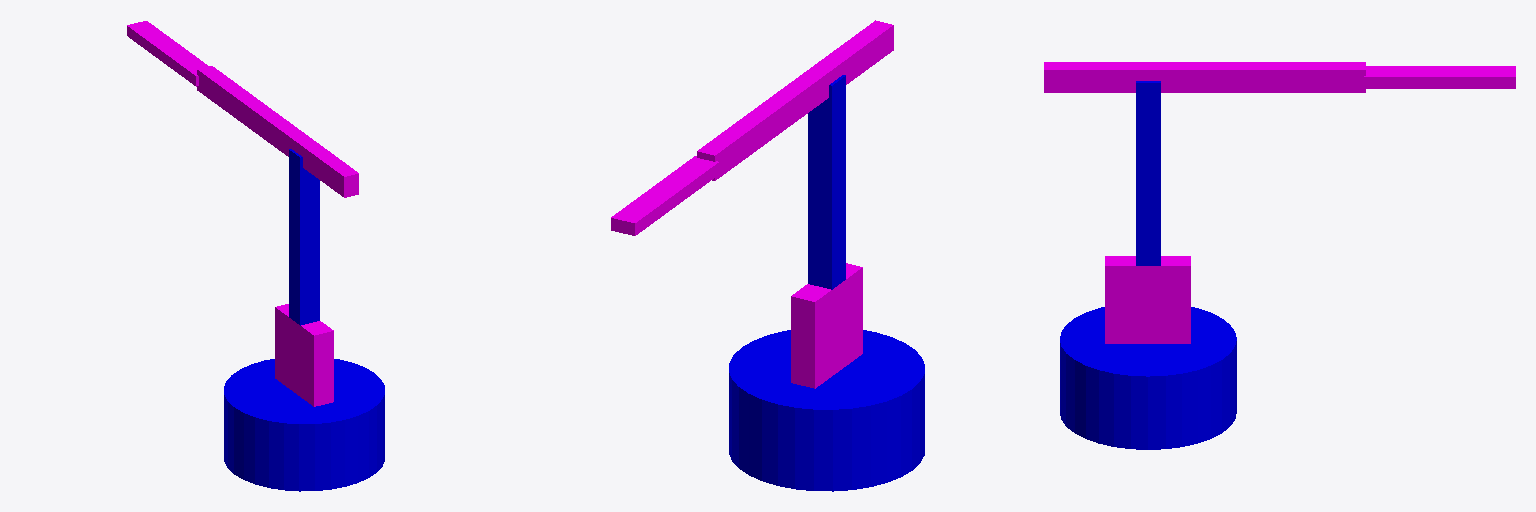
robot.urdf — ebamk1:
<?xml version="1.0"?>
<robot name="ebamk1">
  <link name="base_link">
    <visual>
      <origin xyz="0 0 0.016" rpy="0 0 0" />
      <geometry>
        <cylinder length="0.032" radius="0.035"/>
      </geometry>
      <material name="blue"/>
    </visual>
  </link>

  <joint name="joint_1" type="revolute">
    <origin xyz="0 0 0.049" rpy="0 0 0" />
    <parent link="base_link" />
    <child link="link_1" />
    <axis xyz="0 0 1" />
    <limit
      effort="0"
      velocity="0"
      lower="-0.7854" upper="0.7854"/>
      <!--   [-45,45]-->
  </joint>

  <link name="link_1">
    <visual>
      <origin xyz="0 0 0" rpy="0 0 0" />
      <geometry>
        <box size="0.01 0.034 0.034" />
      </geometry>
      <material name="red" />
    </visual>
  </link>

  <joint name="joint_2" type="revolute">
    <origin xyz="0 0 0.017" rpy="0 0 0" />
    <parent link="link_1" />
    <child link="link_2" />
    <axis xyz="1 0 0" />
    <limit
      effort="0"
      velocity="0"
      lower="-0.6109" upper="0.9599"/>
      <!--   [-35,55]-->
  </joint>

  <link name="link_2">
    <visual>
      <origin xyz="0 0 0.04" rpy="0 0 0" />
      <geometry>
        <box size="0.01 0.01 0.08" />
      </geometry>
      <material name="blue" />
    </visual>
  </link>

  <joint name="joint_3" type="revolute">
    <origin xyz="0 0 0.08" rpy="0 0 0" />
    <parent link="link_2" />
    <child link="link_3" />
    <axis xyz="1 0 0" />
    <limit
      effort="0"
      velocity="0"
      lower="-1.2217" upper="0.3491"/>
      <!--   [-70,20]-->
  </joint>

  <link name="link_3">
    <visual>
      <origin
        xyz="0 0.0225 0"
        rpy="0 0 0" />
      <geometry>
        <box size="0.0075 0.127 0.01" />
      </geometry>
      <material name="red" />
    </visual>
  </link>

  <joint name="joint_4" type="revolute">
    <origin xyz="0 0.085 0" rpy="0 0 0" />
    <parent link="link_3" />
    <child link="link_4" />
    <axis xyz="1 0 0" />
    <limit
      effort="0"
      velocity="0"
      lower="-0.7854" upper="1.2217"/>
      <!--   [-45,70]-->
  </joint>

  <link name="link_4">
    <visual>
      <origin
        xyz="0 0.005 0"
        rpy="0 0 0" />
      <geometry>
        <box size="0.01 0.01 0.005" />
      </geometry>
      <material name="red" />
    </visual>
  </link>

  <joint name="joint_5" type="fixed">
    <origin xyz="0 0.01 0" rpy="0 0 0" />
    <parent link="link_4" />
    <child link="link_5" />
    <axis xyz="1 0 0" />
  </joint>

  <link name="link_5">
    <visual>
      <origin
        xyz="0 0.025 0"
        rpy="0 0 0" />
      <geometry>
        <box size="0.01 0.05 0.005" />
      </geometry>
      <material name="red" />
    </visual>
  </link>

  <material name="red">
    <color rgba="1 0 1 1"/>
  </material>

  <material name="blue">
    <color rgba="0 0 1 1"/>
  </material>

</robot>

--- Facts derived from the render (not from the file) ---
Views: 3 orthographic renders of the robot side by side, from view 1: azimuth 30°, elevation 25°; view 2: azimuth 150°, elevation 25°; view 3: azimuth 270°, elevation 25°.
Robot: ebamk1 — 6 links, 5 joints (4 revolute, 1 fixed); root link base_link; default pose: every joint at zero.
Links seen in each view (by area): view 1: base_link, link_3, link_2, link_1, link_5; view 2: base_link, link_3, link_2, link_1, link_5; view 3: base_link, link_3, link_1, link_2, link_5, link_4.
Boxes of the visible links, x1,y1,x2,y2 form: base_link: (224, 359, 384, 491); link_3: (197, 66, 358, 197); link_2: (289, 149, 319, 325); link_1: (275, 304, 333, 406); link_5: (127, 21, 203, 77); base_link: (729, 330, 924, 491); link_3: (697, 20, 893, 180); link_2: (808, 75, 845, 289); link_1: (791, 263, 862, 388); link_5: (611, 166, 704, 235); base_link: (1060, 307, 1236, 449); link_3: (1044, 62, 1365, 92); link_1: (1105, 256, 1190, 343); link_2: (1136, 81, 1160, 265); link_5: (1389, 66, 1515, 88); link_4: (1364, 66, 1388, 88).
Size in the robot's own frame: 0.07 by 0.186 by 0.151 metres.
Geometry: primitives only (box / cylinder / sphere), no mesh files.
